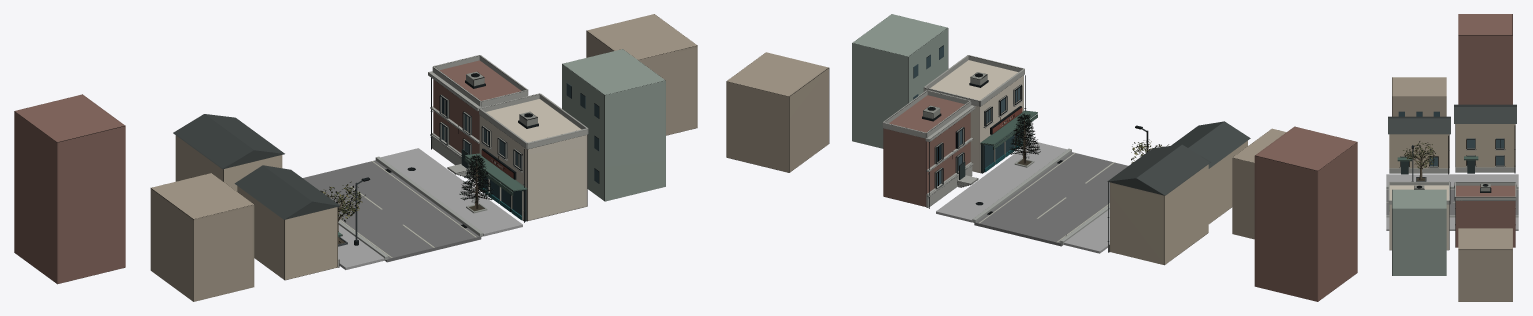
File: city_hd_00.glb
The picture shows the model from 3 angles, left to right: view 1: azimuth 30°, elevation 25°; view 2: azimuth 150°, elevation 25°; view 3: azimuth 270°, elevation 25°; orthographic projection. The views are drawn at different scales.
Visible parts, largest first — view 1: Background city building.002, CITY_PBR_asphalt, CITY_PBR_pavement, CITY_curb; view 2: Background city building.002, CITY_PBR_asphalt, CITY_PBR_pavement, CITY_curb; view 3: Background city building.002, CITY_PBR_pavement, CITY_PBR_asphalt.
Part boxes in pixels (x1,y1,x2,y2): Background city building.002: [14, 14, 697, 301]; CITY_PBR_asphalt: [303, 160, 481, 262]; CITY_PBR_pavement: [338, 148, 522, 269]; CITY_curb: [338, 156, 483, 260]; Background city building.002: [726, 14, 1357, 301]; CITY_PBR_asphalt: [974, 152, 1127, 246]; CITY_PBR_pavement: [936, 141, 1109, 253]; CITY_curb: [972, 148, 1109, 244]; Background city building.002: [1388, 14, 1516, 301]; CITY_PBR_pavement: [1386, 174, 1518, 230]; CITY_PBR_asphalt: [1386, 189, 1518, 215].
Bounding box in the file's own units: 56.65 × 12.26 × 16.
Materials: 9 (1 with a texture image).
